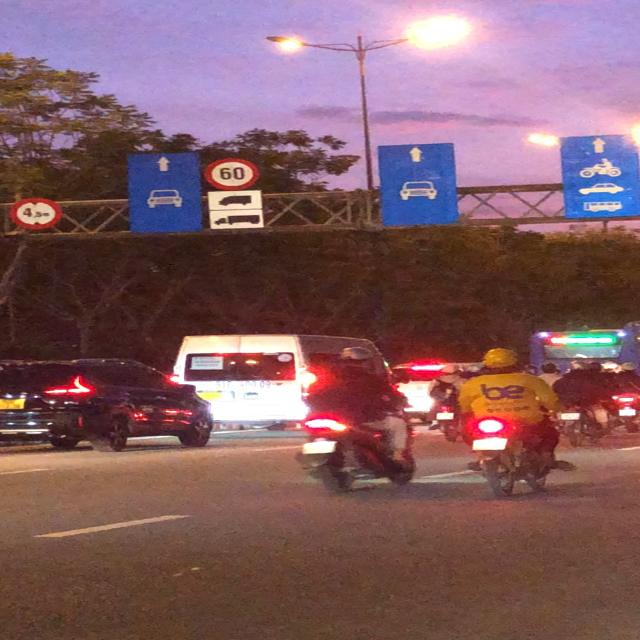Bien bao han che chieu cao: (7, 196, 65, 233)
Bien bao toc do toi da cho phep: (200, 156, 260, 193)
